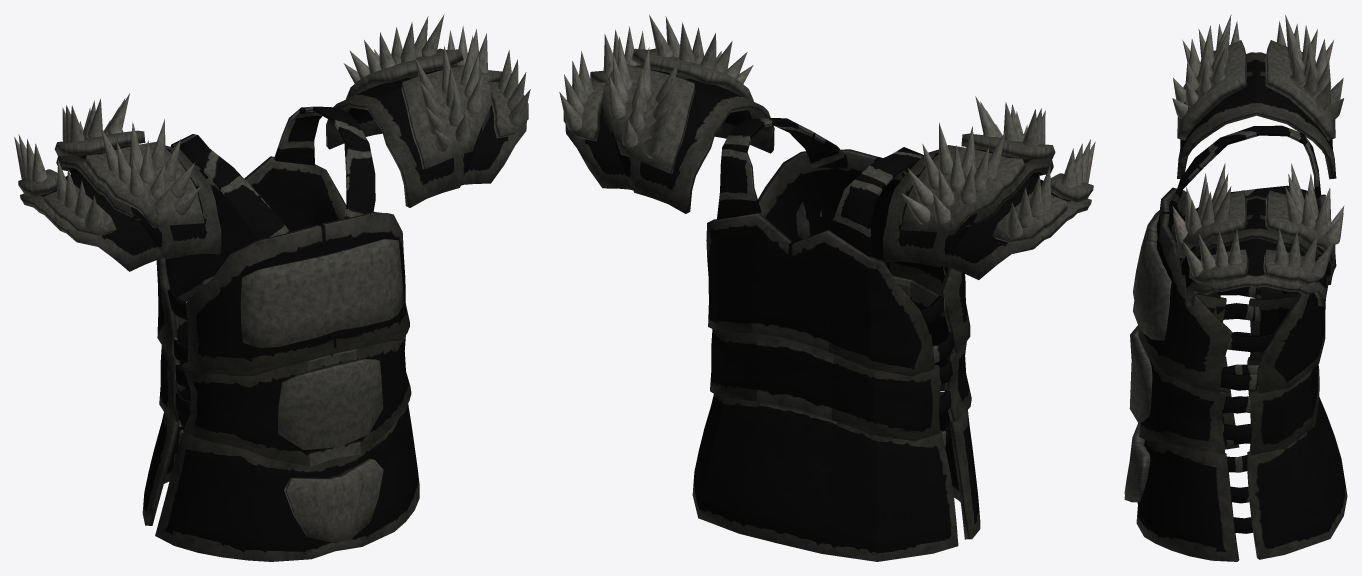
The model's file is studded_leather.glb.
3 views of the same model, side by side, from view 1: azimuth 30°, elevation 25°; view 2: azimuth 150°, elevation 25°; view 3: azimuth 270°, elevation 25° (orthographic). The views are drawn at different scales.
Parts seen in each view (by area): view 1: studded_leather_export; view 2: studded_leather_export; view 3: studded_leather_export.
Boxes of the visible parts, <box> form: studded_leather_export: <box>14,14,530,561</box>; studded_leather_export: <box>559,14,1095,561</box>; studded_leather_export: <box>1124,14,1347,561</box>.
Size of the model in its own units: 0.5524 by 0.4879 by 0.2392.
1 material, 1 textured.
